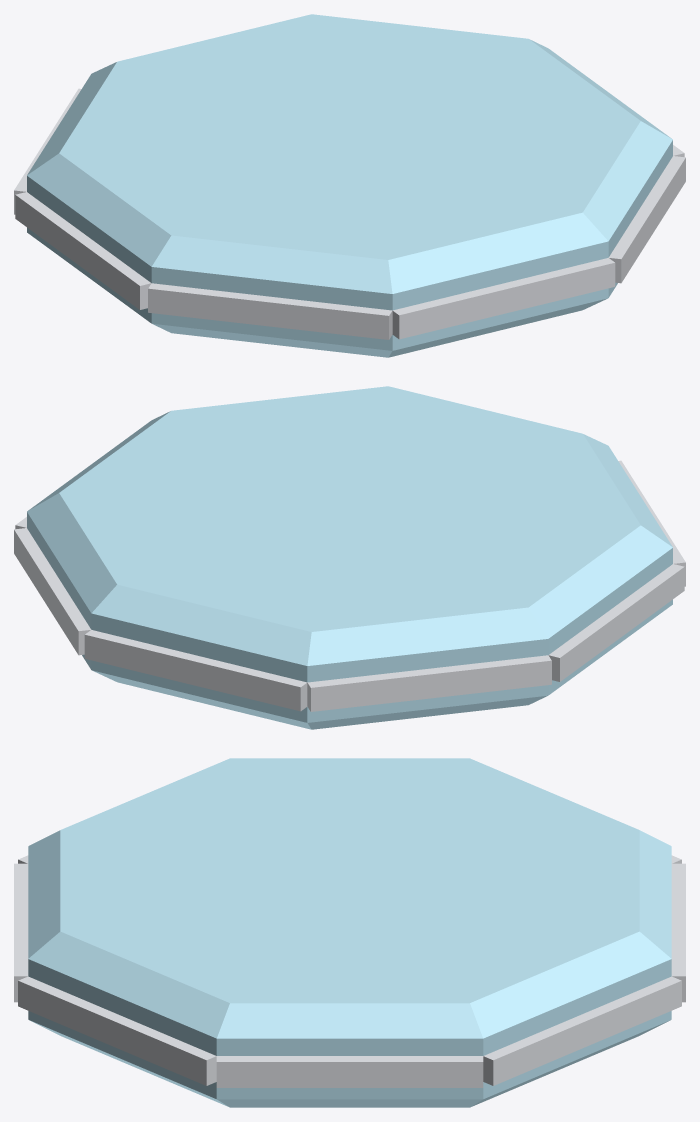
The model's file is stillwardglass.glb.
3 views of the same model, one above another, from view 1: azimuth 30°, elevation 25°; view 2: azimuth 150°, elevation 25°; view 3: azimuth 270°, elevation 25° (orthographic). The views are drawn at different scales.
Visible parts, largest first — view 1: stillwardglass; view 2: stillwardglass; view 3: stillwardglass.
Part boxes in pixels (x1,y1,x2,y2): stillwardglass: (14, 14, 685, 357); stillwardglass: (14, 386, 685, 729); stillwardglass: (14, 758, 685, 1107).
Size of the model in its own units: 0.5016 by 0.153 by 0.5016.
